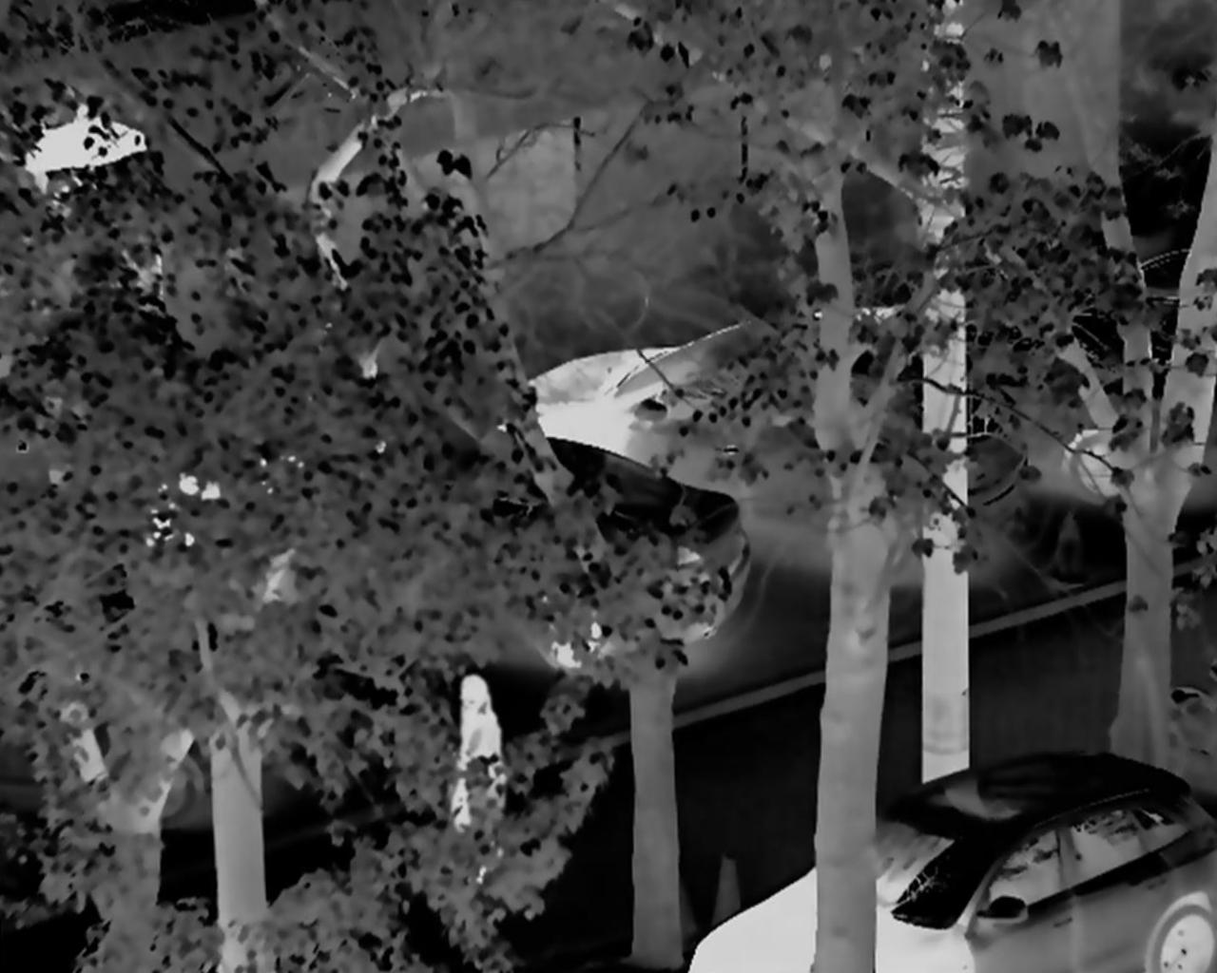person: (437, 666, 508, 898)
